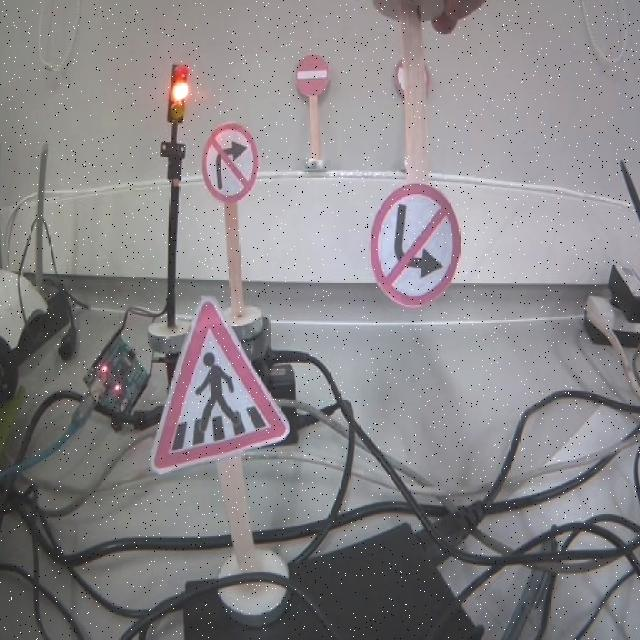Dilarang Belok Kanan: (201, 123, 259, 203)
Dilarang Belok Kiri: (371, 184, 460, 306)
Dilarang Masuk: (294, 55, 329, 98)
Lampu Kuning: (167, 62, 189, 124)
Rambu Penyebrangan: (151, 299, 288, 471)
